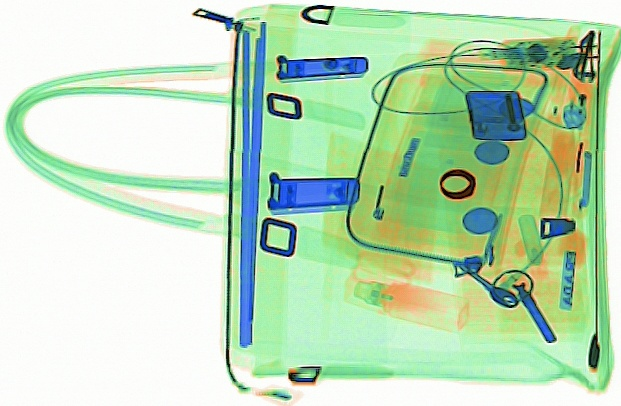lighter: (463, 86, 527, 141), (559, 48, 592, 129)
